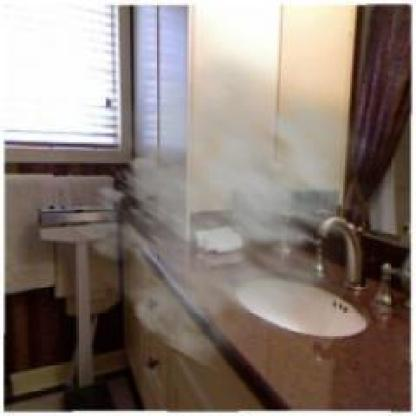Smoke: (73, 41, 414, 382)
